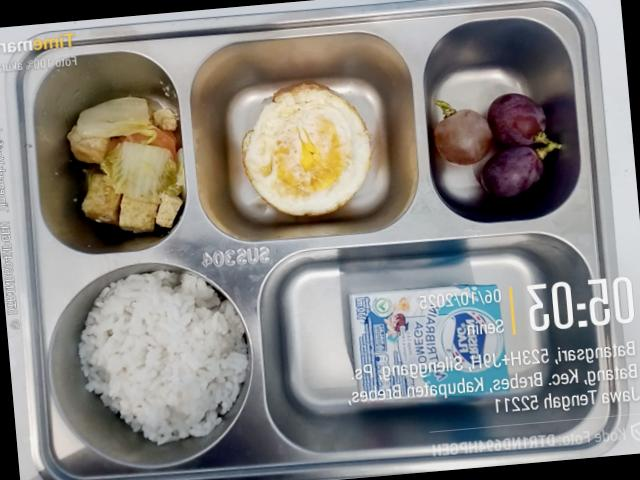buah: (434, 92, 561, 197)
nasi: (78, 270, 248, 444)
sayur: (103, 141, 172, 200), (78, 96, 156, 140)
susu: (347, 283, 507, 398)
tahu: (82, 172, 182, 232), (67, 125, 108, 163)
telur: (242, 83, 371, 215)
